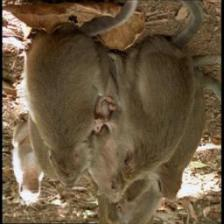monkey: (17, 172, 46, 208), (94, 177, 130, 205), (160, 176, 182, 200), (101, 206, 133, 220), (92, 113, 106, 136)
